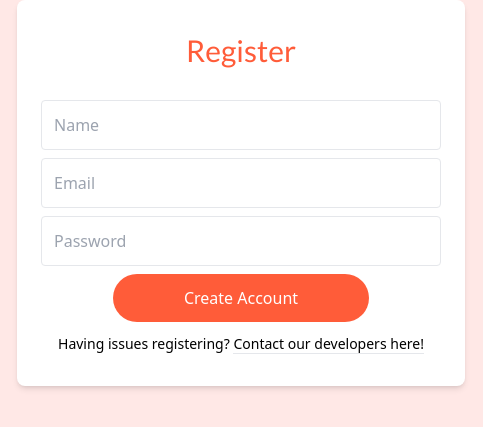
Scenario: register card functionality › should throw error with invalid email
The width and height of the screenshot is (483, 427).
Type "invalid-email@hotmail" into the field with test id "register-card-field-email" at coordinates (241, 183), box [41,158,441,208]
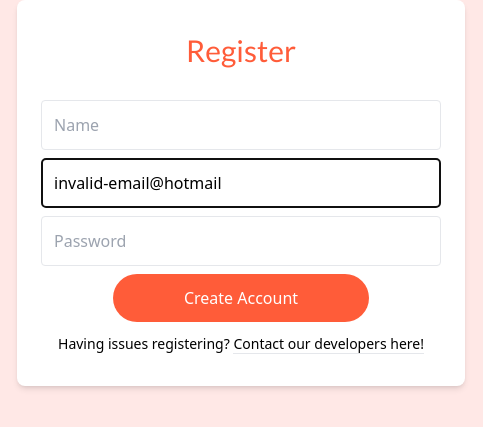
Press Tab
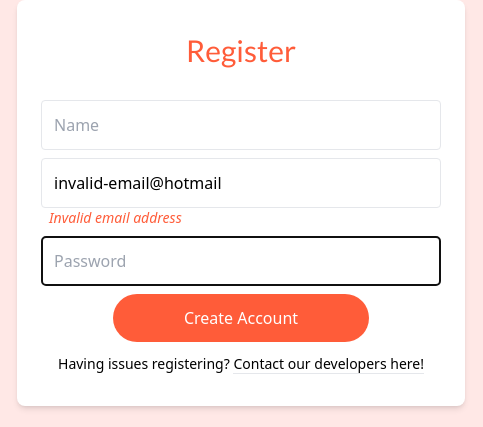
Check: the text "Invalid email address" is shown, box [49,208,182,227]
